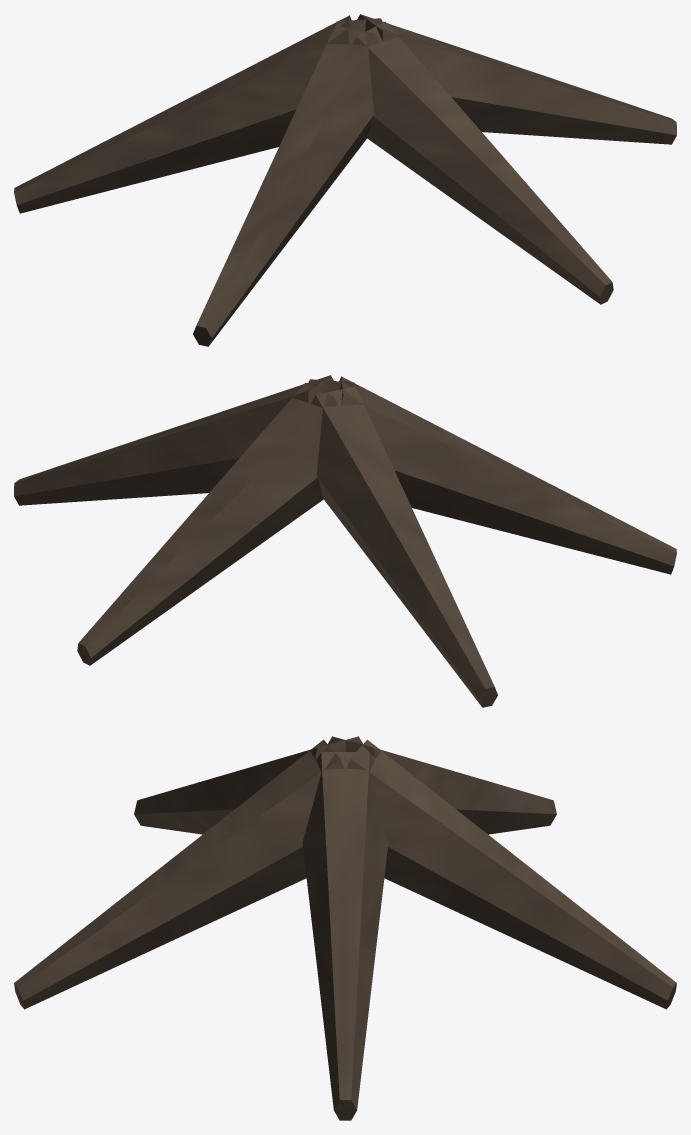
File: root_cluster_03.fbx
The picture shows the model from 3 angles, top to bottom: view 1: azimuth 30°, elevation 25°; view 2: azimuth 150°, elevation 25°; view 3: azimuth 270°, elevation 25°; orthographic projection. The views are drawn at different scales.
Parts seen in each view (by area): view 1: root_cluster_03; view 2: root_cluster_03; view 3: root_cluster_03.
Part boxes in pixels (bbox=[...]): root_cluster_03: bbox=[14, 14, 676, 346]; root_cluster_03: bbox=[14, 375, 676, 707]; root_cluster_03: bbox=[14, 736, 676, 1120].
Bounding box in the file's own units: 216 × 70 × 200.
Materials: 1 (1 with a texture image).
